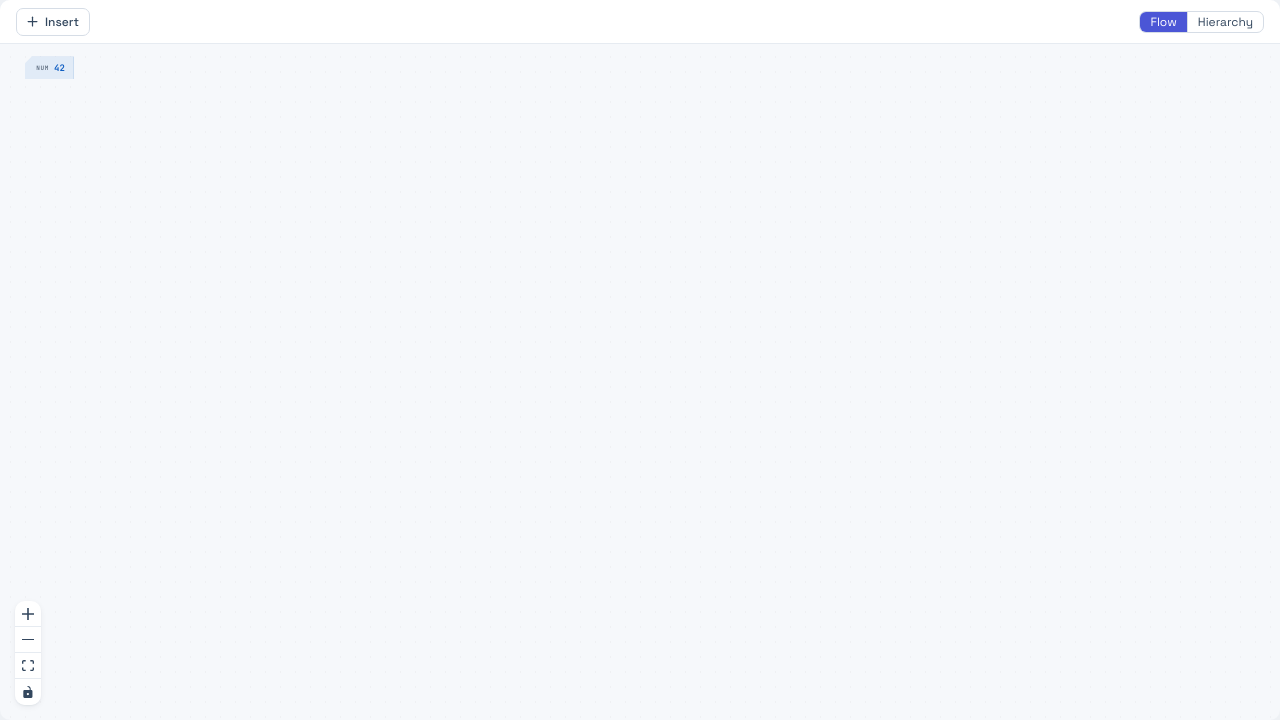
Test: properties panel › binds every label to an input in its own editor
The width and height of the screenshot is (1280, 720).
Click the element with class "react-flow__node": click(51, 68) 25,56 -> 78,79
(page scrolled)
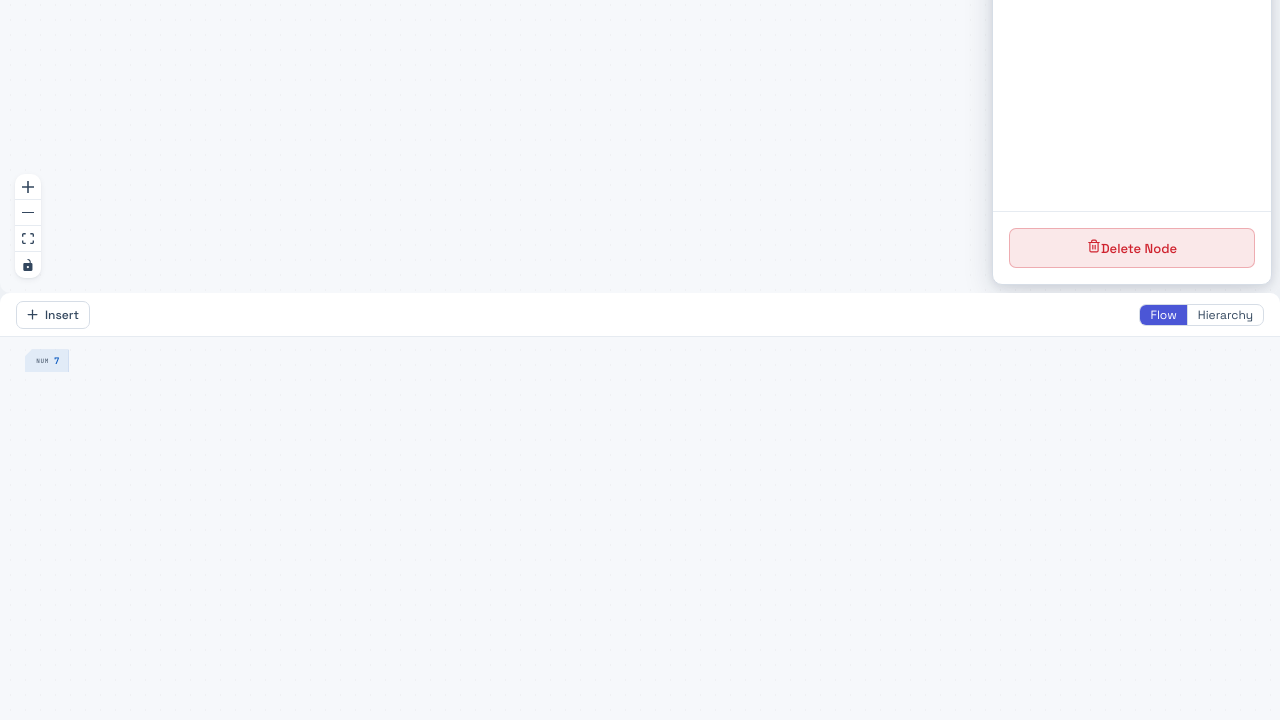
Click the element with class "react-flow__node": click(48, 361) 25,350 -> 72,372
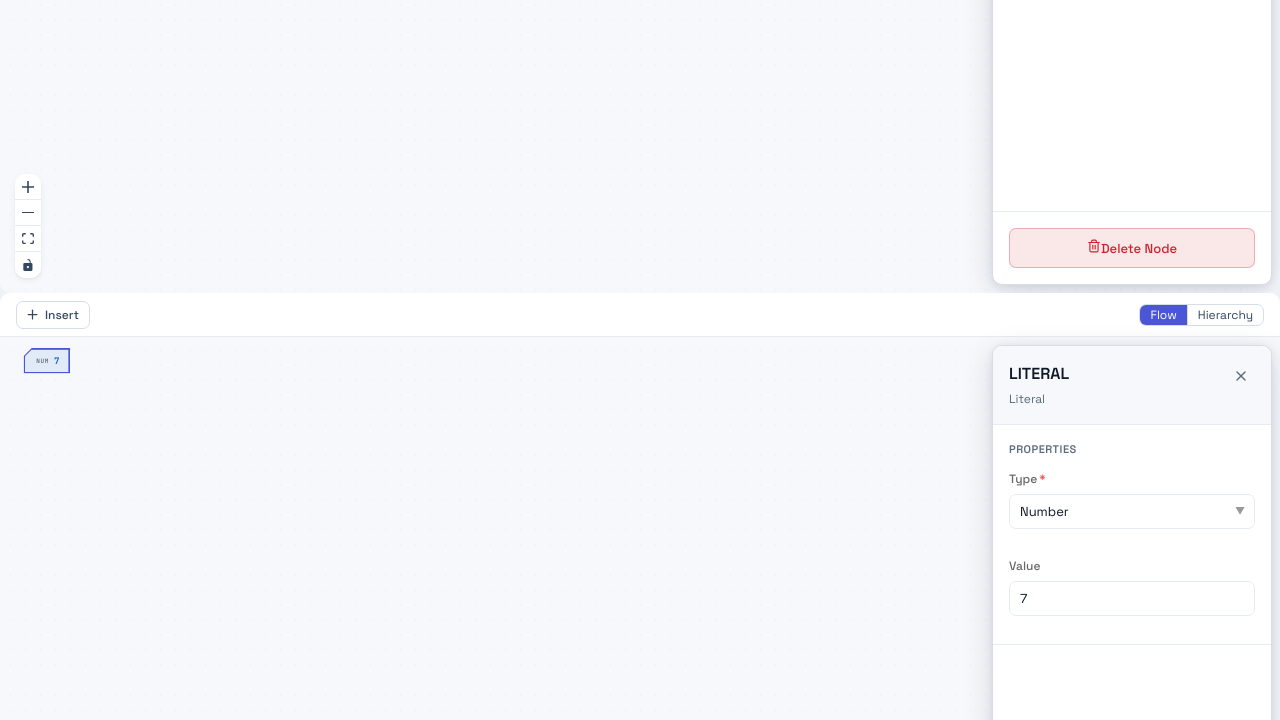
expect the label "Type*" is shown: met, box 1009,470 -> 1046,486
